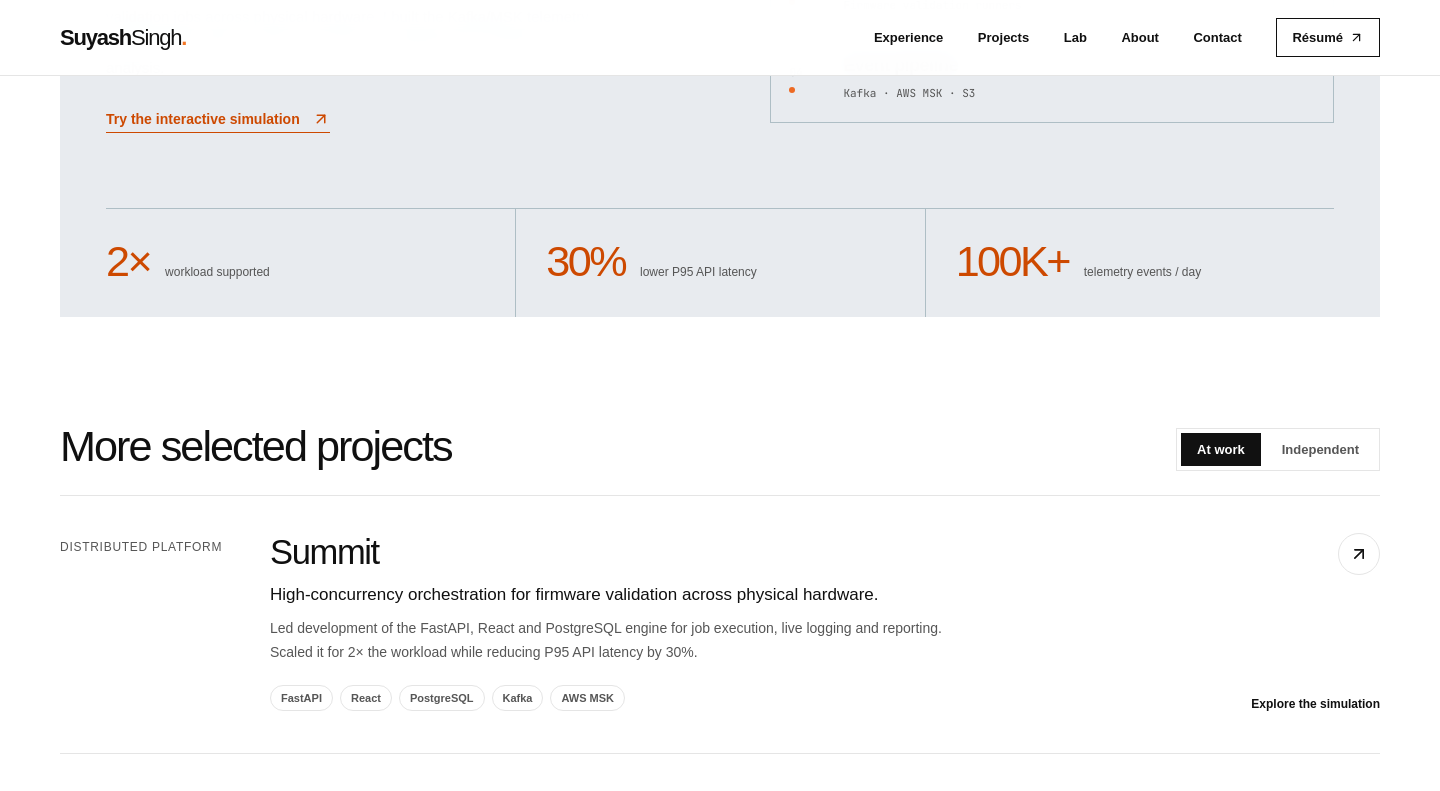
Test: shows the current résumé and lets visitors switch project categories
The image size is (1440, 791).
(page scrolled)
What coordinates should you click on to do the following:
click the tab "Independent"
I would click on:
 (1320, 450)
Its box is [1266,433,1375,466].
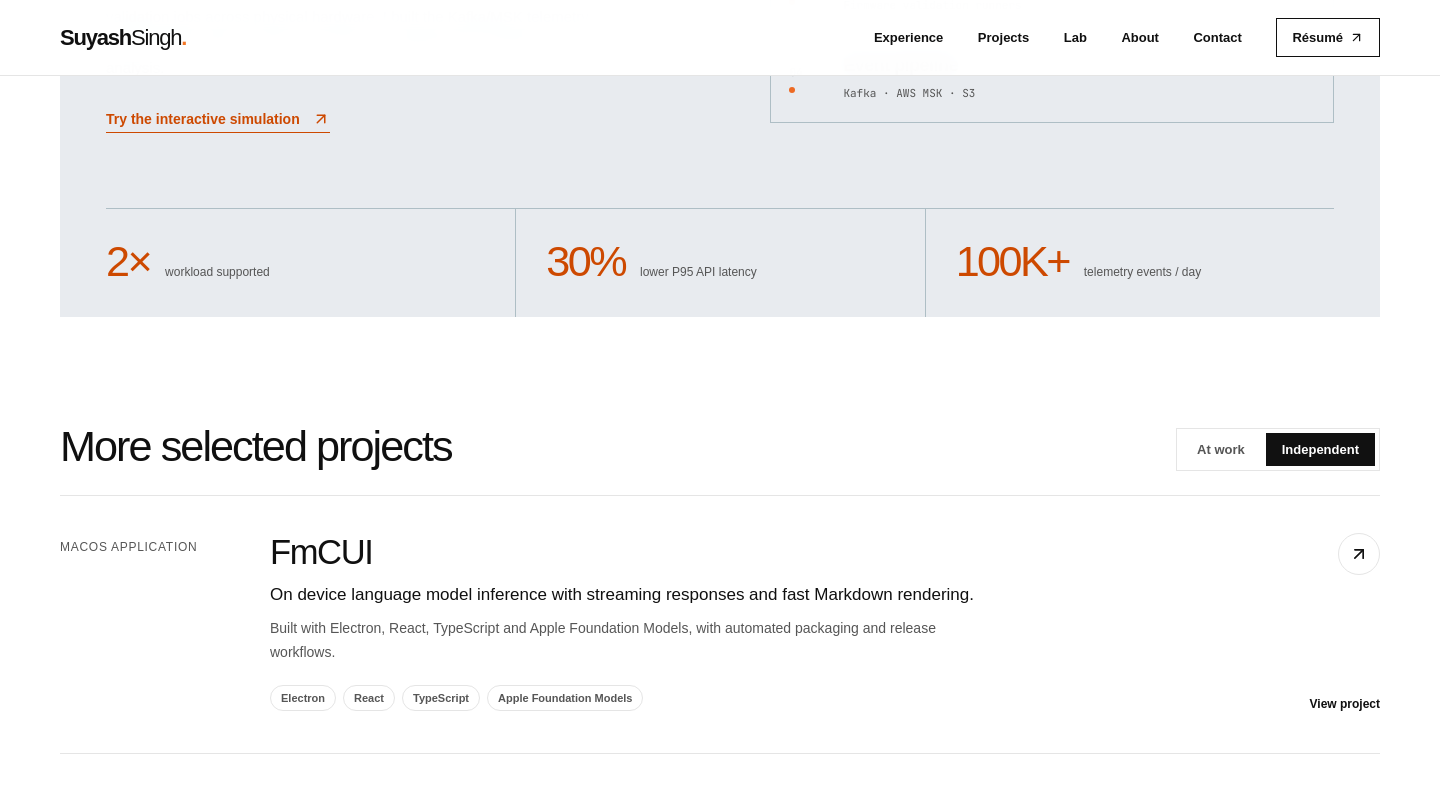
Now the heading "FmCUI" is shown, box [270,533,372,571]
